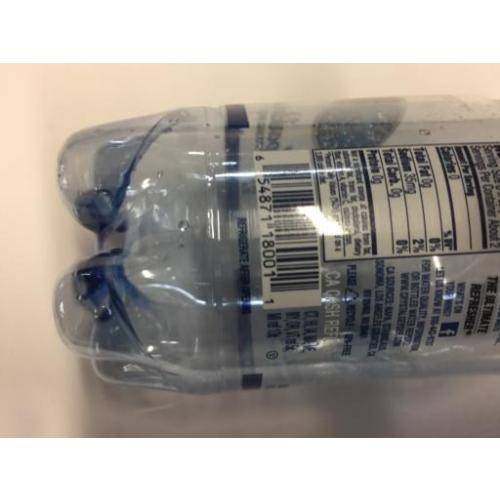plastic: (68, 105, 500, 390)
